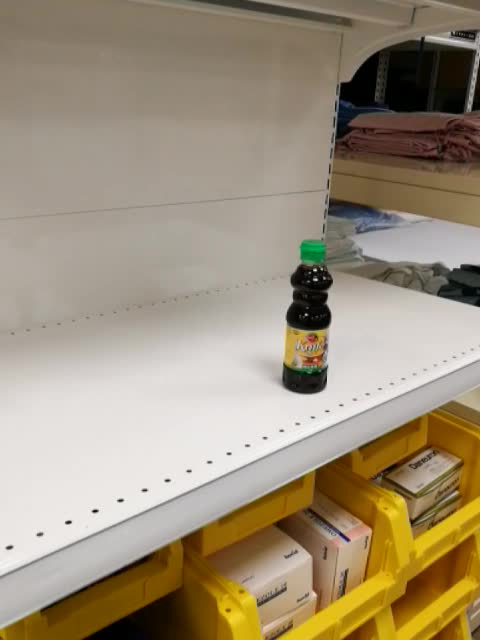cookingoil: (278, 236, 334, 394)
